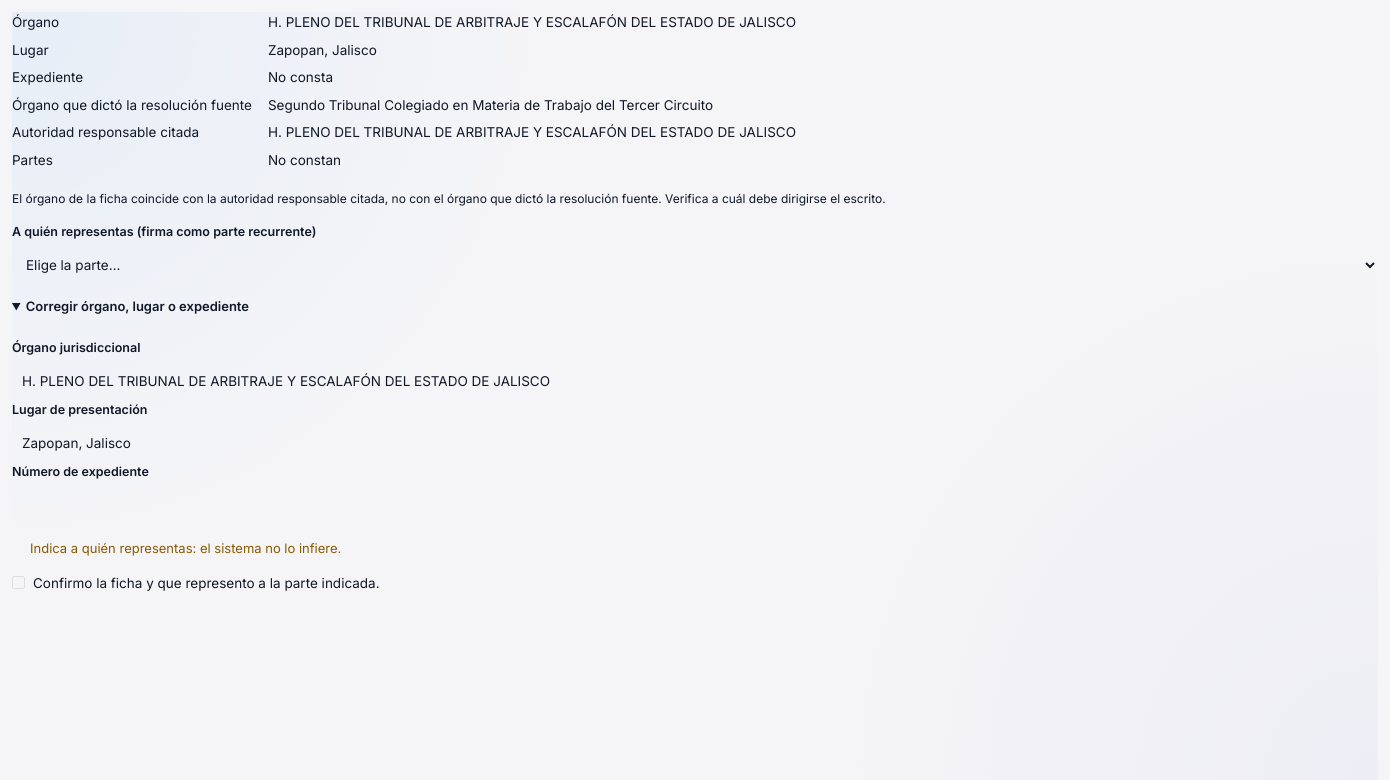
(c) etiquetas del órgano y aviso no bloqueante › el aviso desaparece al elegir otro órgano
The width and height of the screenshot is (1390, 780).
Expected: the text "coincide con la autoridad responsable" is shown, [12,191,886,206]
Replace the text in the field labelled "Órgano jurisdiccional" with "Segundo Tribunal Colegiado en Materia de Trabajo del Tercer Circuito" at (695, 381), box [12,362,1378,400]
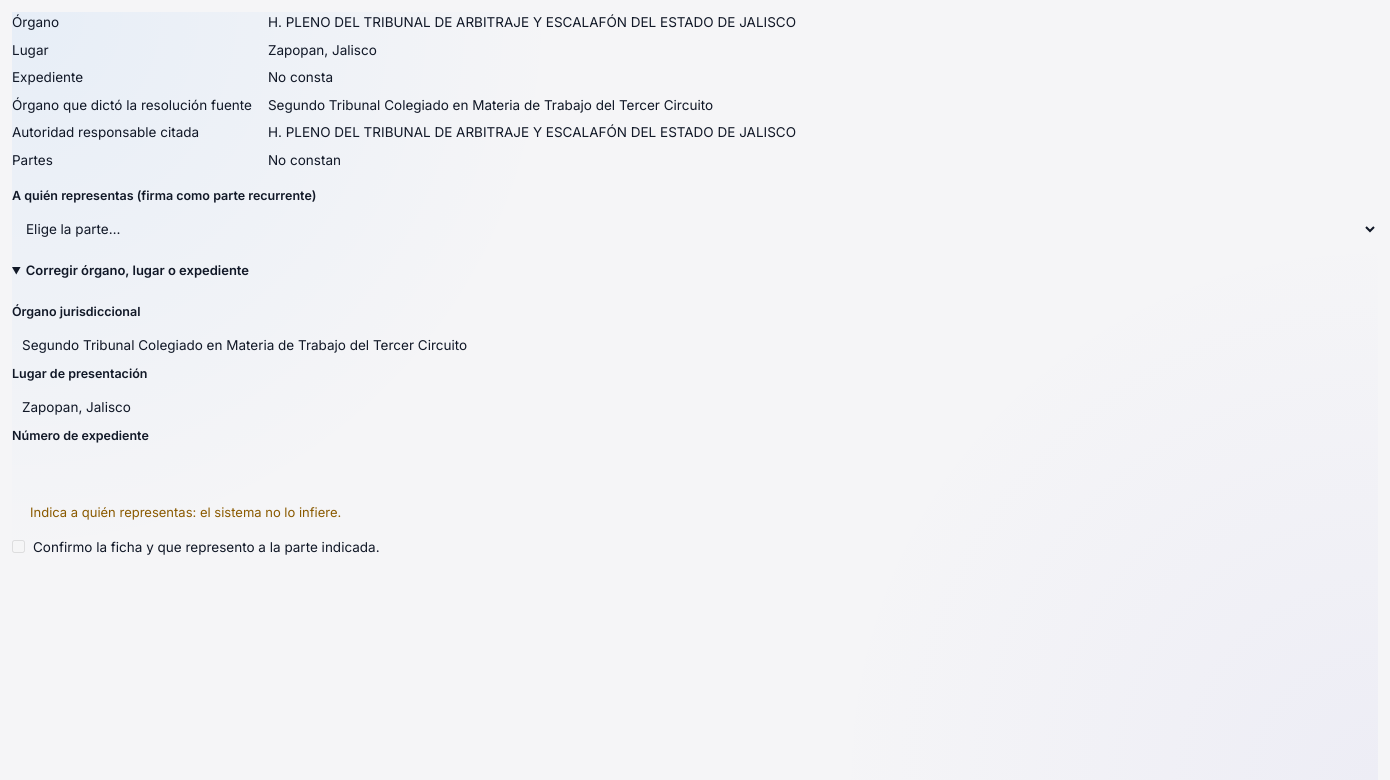
Result: the text "coincide con la autoridad responsable" is gone
